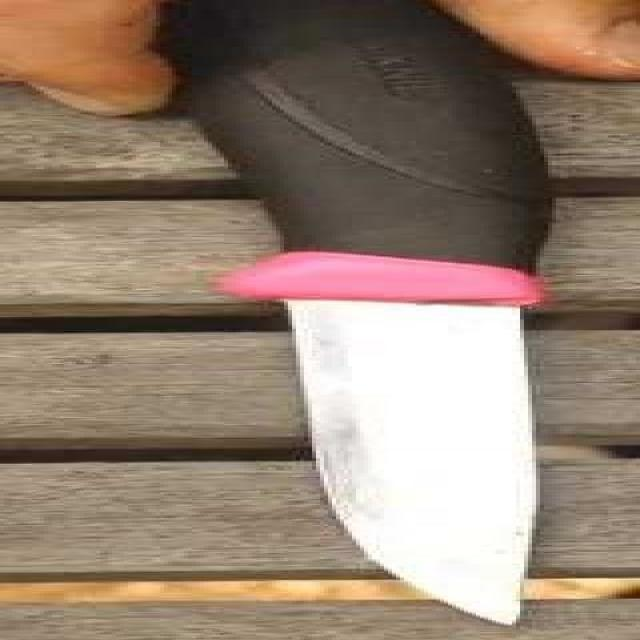knife: (157, 0, 607, 632)
